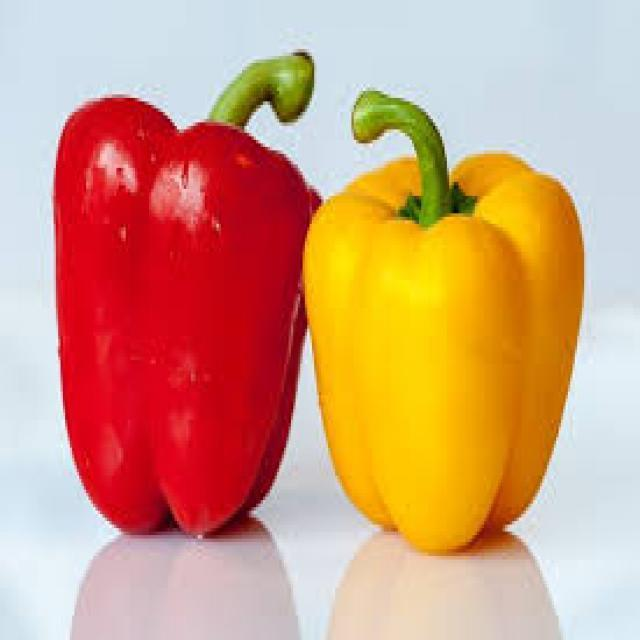Pepper: (301, 93, 586, 558), (52, 96, 323, 541)
